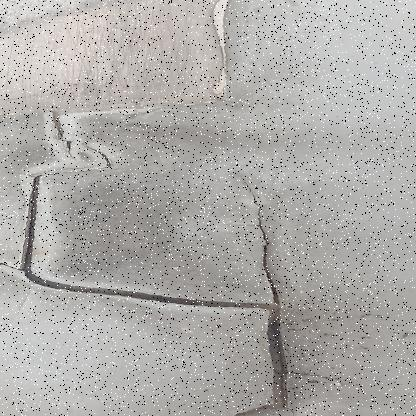Crack: (1, 0, 351, 415)
